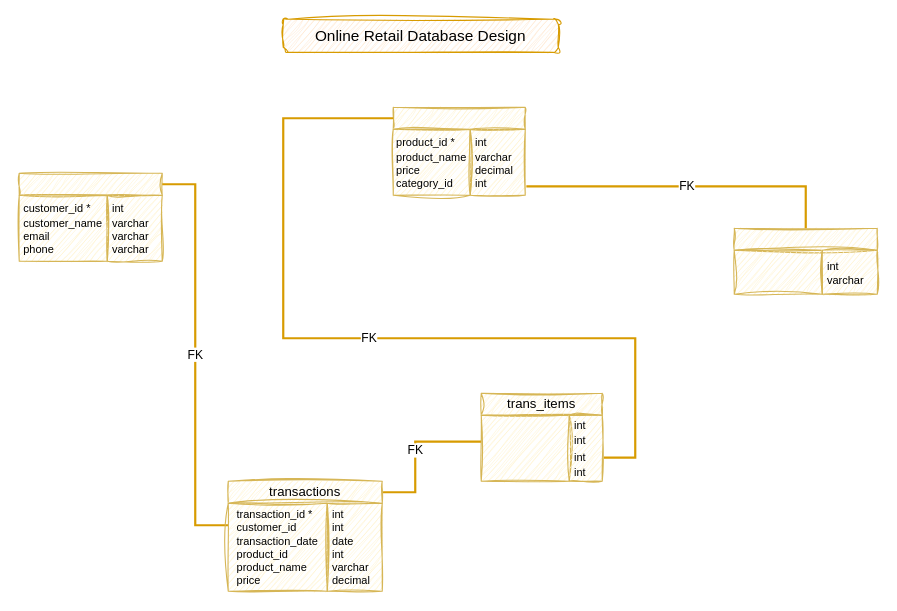
This 897x611 diagram has some shape labels left out. The shapes that lost their labels are listed below. From the top down, each one's centre as x and y in pixels, then its label:
(x=458, y=117): products
(x=90, y=183): customers
(x=805, y=238): categories
(x=777, y=271): categoriy_id * categoriy_name
(x=524, y=447): trans_items_id * transaction_id product_id quantity
